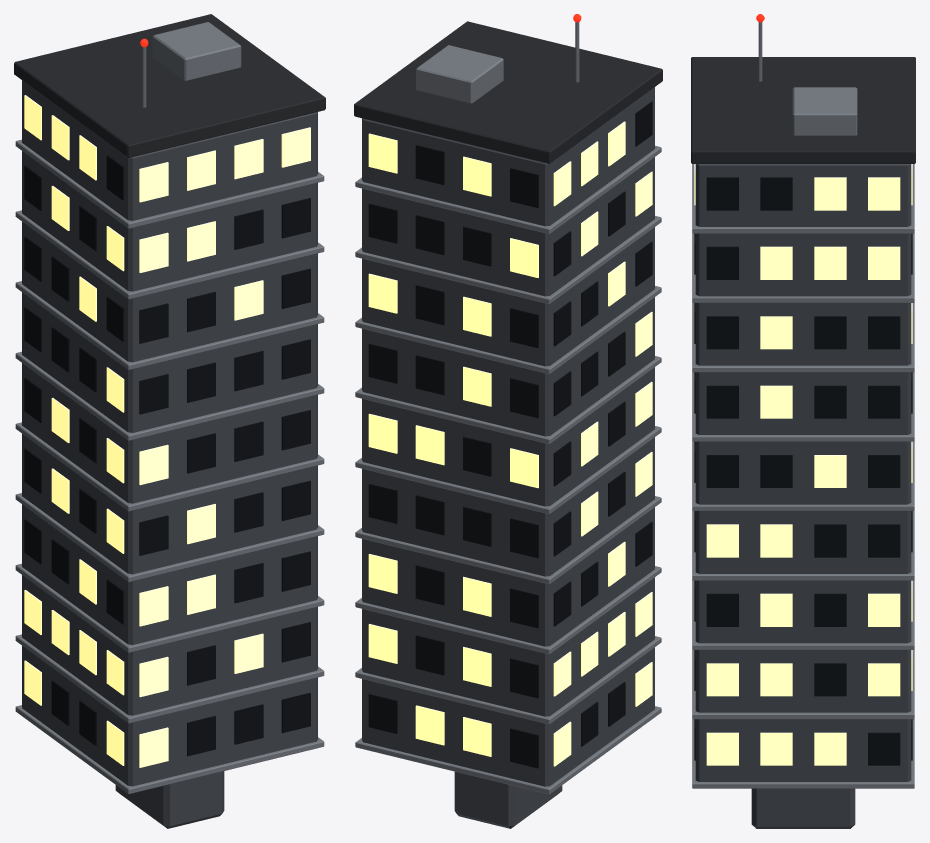
File: bld_tower.glb
The picture shows the model from 3 angles, left to right: view 1: azimuth 30°, elevation 25°; view 2: azimuth 150°, elevation 25°; view 3: azimuth 270°, elevation 25°; orthographic projection.
Parts seen in each view (by area): view 1: intact, chunk_000, chunk_002, chunk_200; view 2: intact, chunk_000, chunk_011, chunk_010, chunk_002, chunk_111, chunk_110; view 3: intact, chunk_001, chunk_000.
Part boxes in pixels (x1,y1,x2,y2): intact: (14,14,325,794); chunk_000: (115,773,221,828); chunk_002: (168,771,224,828); chunk_200: (164,777,199,826); intact: (354,14,662,794); chunk_000: (454,772,553,828); chunk_011: (463,775,509,828); chunk_010: (457,773,514,828); chunk_002: (509,785,562,826); chunk_111: (454,772,508,827); chunk_110: (455,771,505,823); intact: (691,14,915,788); chunk_001: (754,788,851,828); chunk_000: (751,788,855,828).
Bounding box in the file's own units: 9.4 × 35.94 × 9.4.
